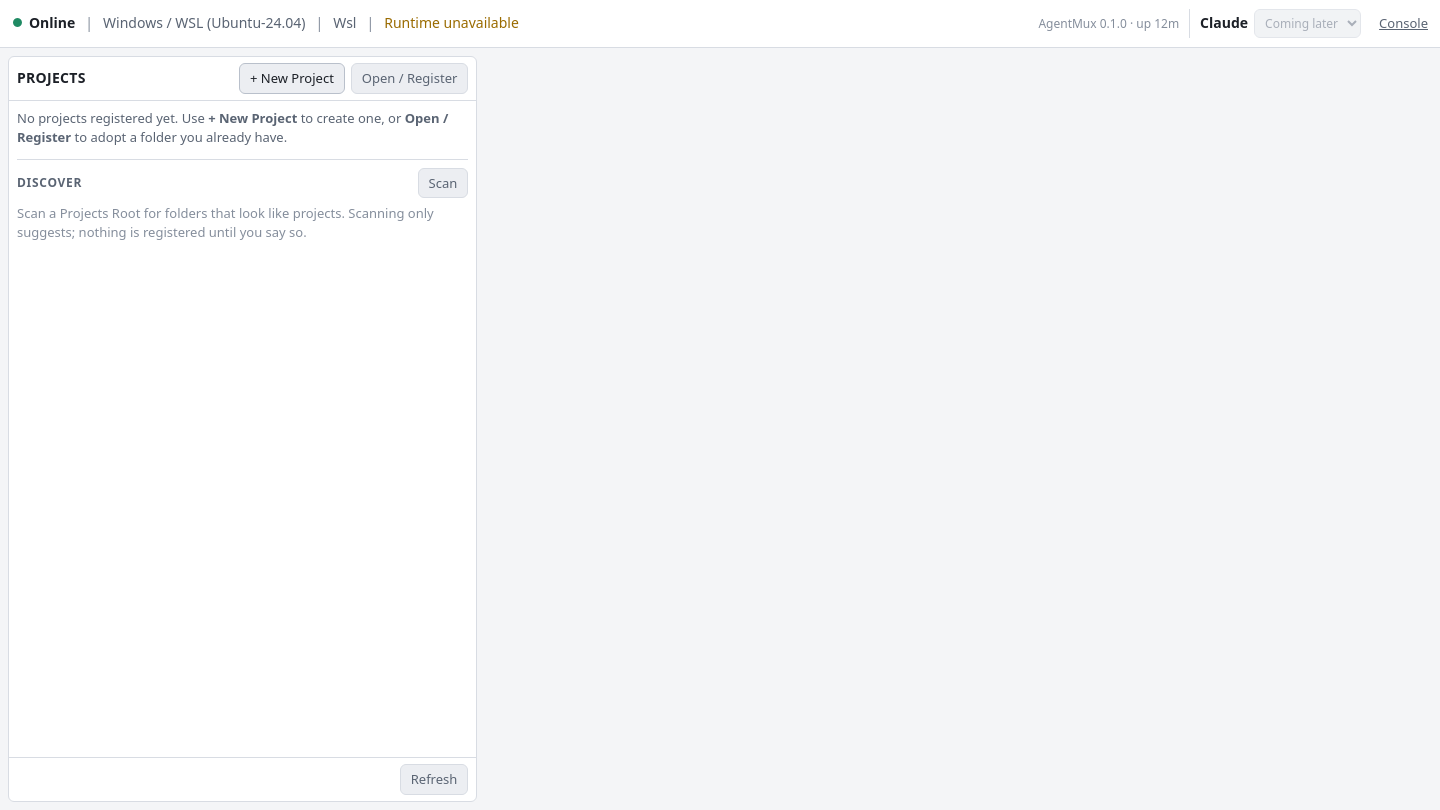
App › scans only when the user asks, and lists what it found
Expected: the text "No projects registered yet" is shown, [17,109,208,127]
Click the button "Scan" at (443,183), box [418,168,468,198]
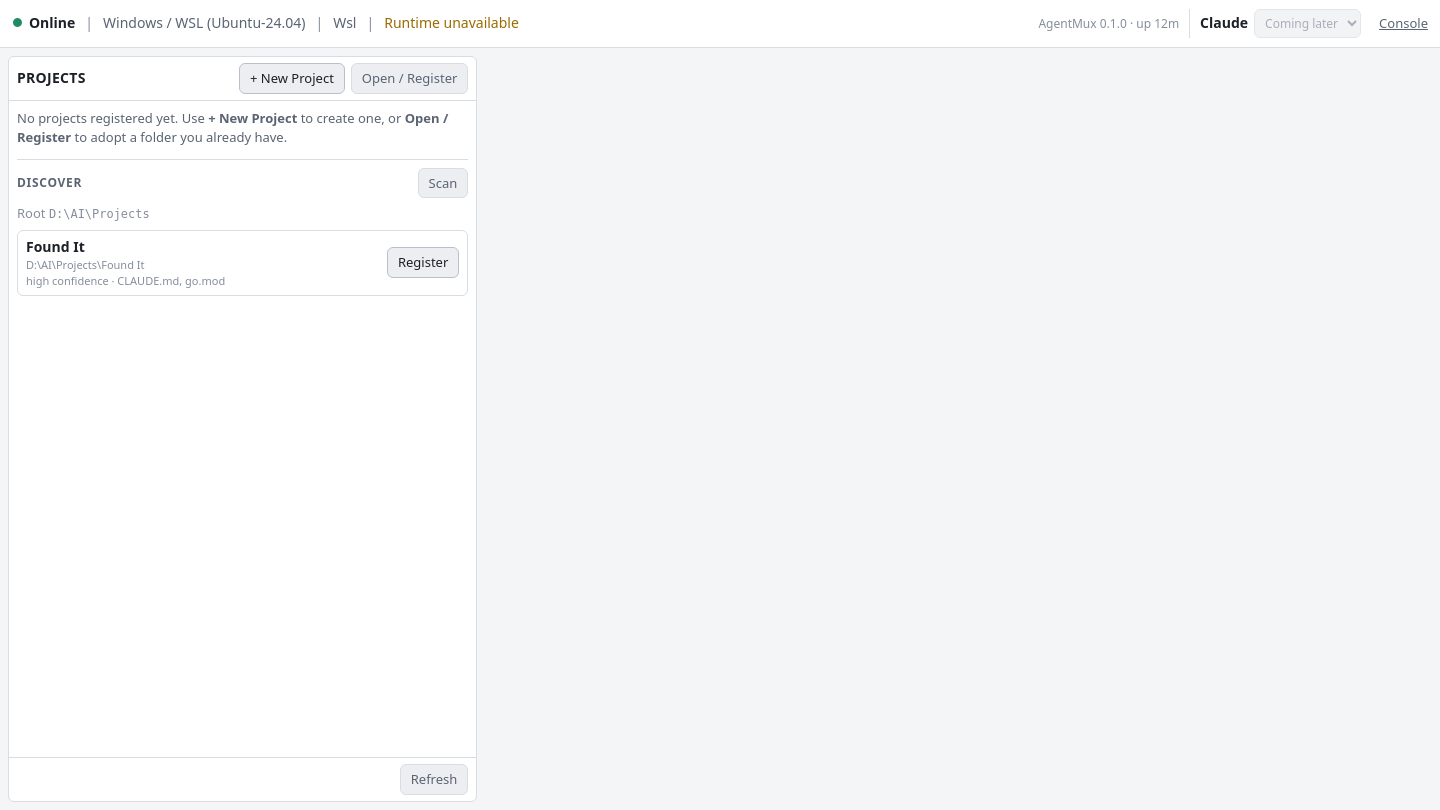
Result: the text "Found It" is shown at [26,237,85,256]
